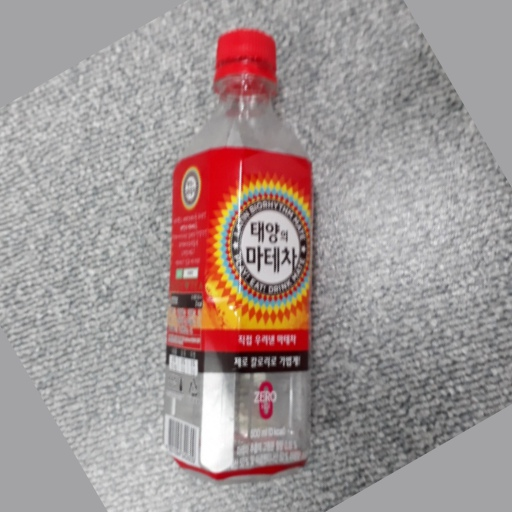Plastic_0: (167, 30, 313, 477)
